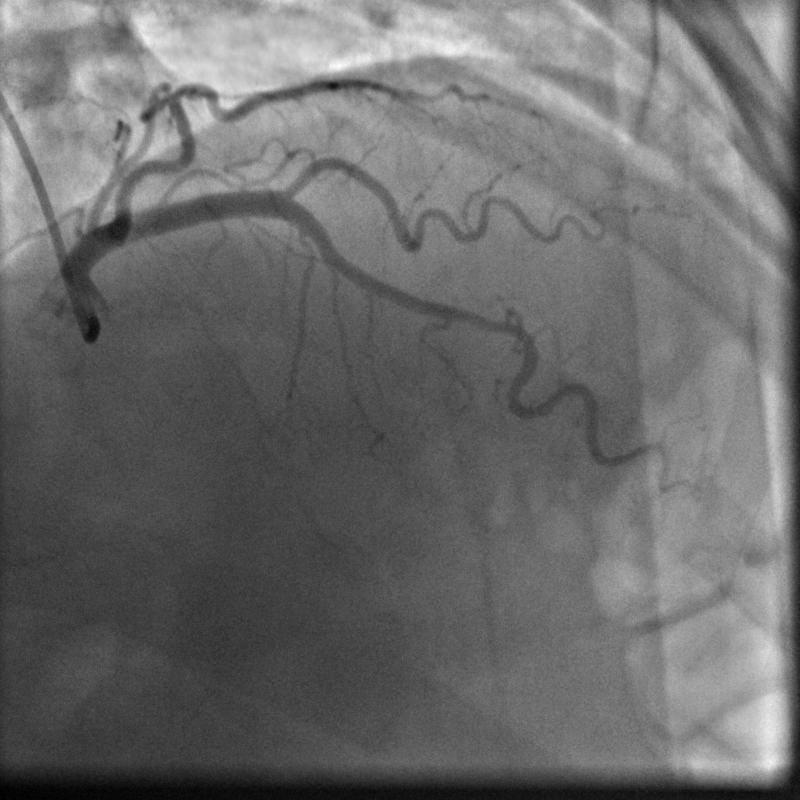Stenosis: (461, 301, 518, 334)
